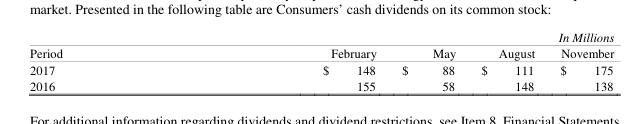table: (28, 29, 613, 93)
table column: (191, 29, 388, 93), (28, 29, 191, 93), (388, 29, 467, 93), (467, 29, 545, 93), (545, 29, 613, 93)
table column header: (28, 29, 613, 60)
table row: (28, 29, 613, 60), (28, 76, 613, 93), (28, 60, 613, 76)
